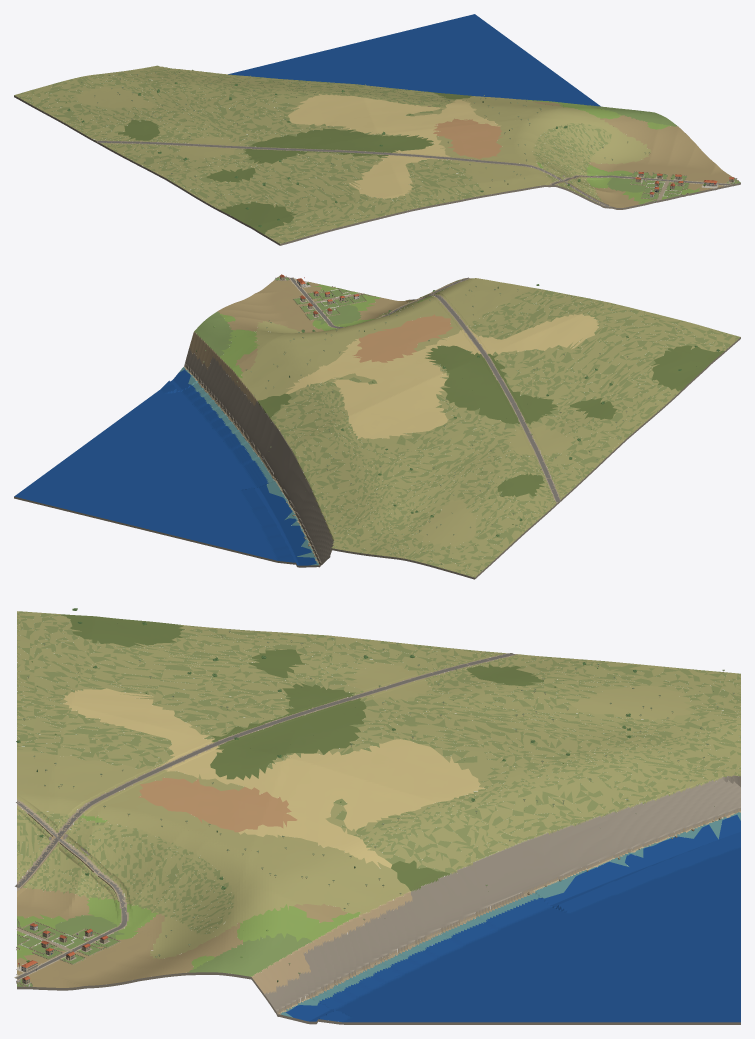
Rendered from parca_+10_+1-yakin.glb.
3 renders of one model, top to bottom at view 1: azimuth 30°, elevation 25°; view 2: azimuth 150°, elevation 25°; view 3: azimuth 270°, elevation 25°, orthographic. The views are drawn at different scales.
Visible parts, largest first — view 1: parca_+10_+1_arazi, parca_+10_+1_yollar, parca_+10_+1_bitkiler, parca_+10_+1_yapilar; view 2: parca_+10_+1_arazi, parca_+10_+1_yollar, parca_+10_+1_bitkiler; view 3: parca_+10_+1_arazi, parca_+10_+1_yollar, parca_+10_+1_bitkiler, parca_+10_+1_yapilar, parca_+10_+1_duvarlar.
Part boxes in pixels (bbox=[...]): parca_+10_+1_arazi: bbox=[14, 14, 740, 245]; parca_+10_+1_yollar: bbox=[97, 141, 730, 206]; parca_+10_+1_bitkiler: bbox=[20, 69, 737, 242]; parca_+10_+1_yapilar: bbox=[635, 171, 734, 197]; parca_+10_+1_arazi: bbox=[14, 276, 740, 579]; parca_+10_+1_yollar: bbox=[289, 277, 560, 501]; parca_+10_+1_bitkiler: bbox=[196, 275, 720, 570]; parca_+10_+1_arazi: bbox=[17, 611, 740, 1024]; parca_+10_+1_yollar: bbox=[14, 653, 514, 979]; parca_+10_+1_bitkiler: bbox=[16, 608, 734, 986]; parca_+10_+1_yapilar: bbox=[16, 923, 110, 984]; parca_+10_+1_duvarlar: bbox=[16, 919, 120, 986].
Bounding box in the file's own units: 1005 × 172 × 1004.
